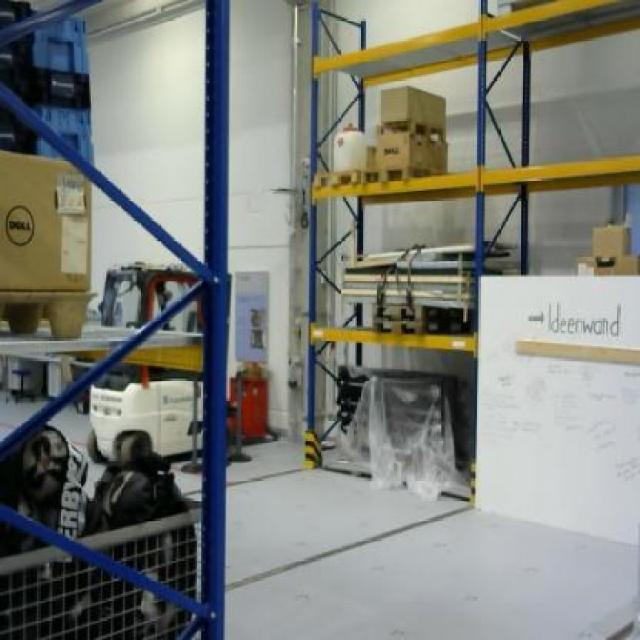box: (0, 151, 91, 291), (376, 134, 447, 178), (380, 83, 446, 126), (592, 224, 632, 256)
